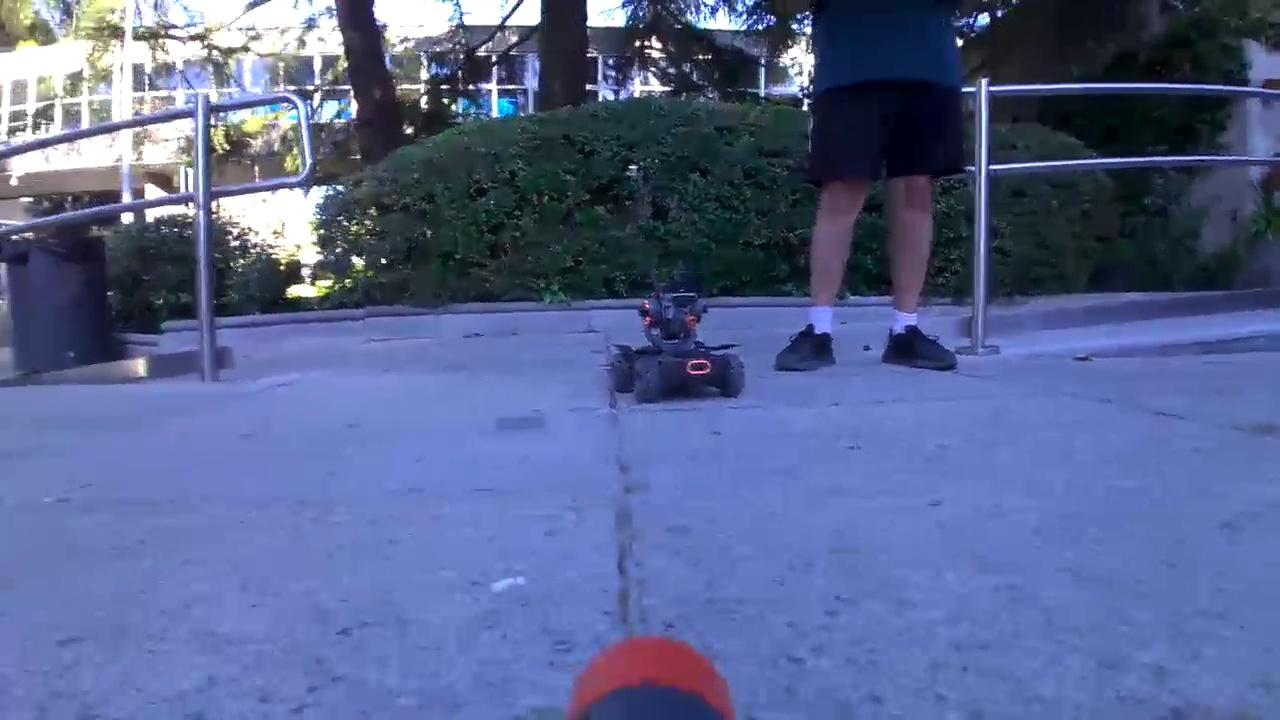robot: (606, 280, 746, 405)
